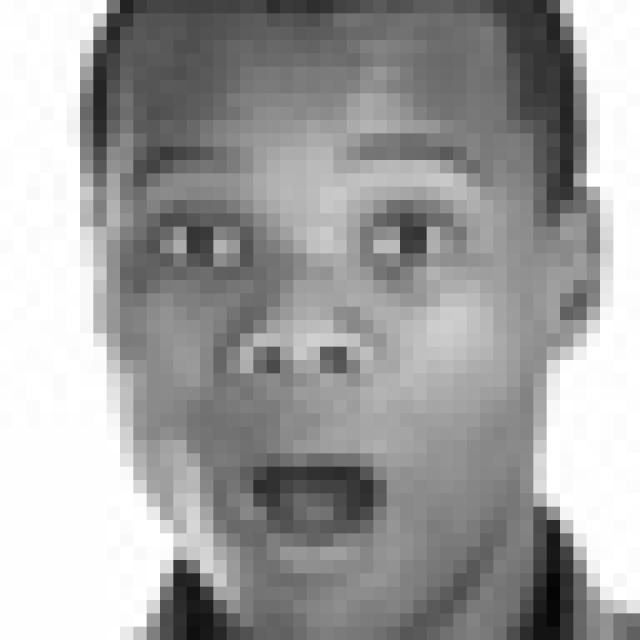surprise: (116, 124, 497, 563)
